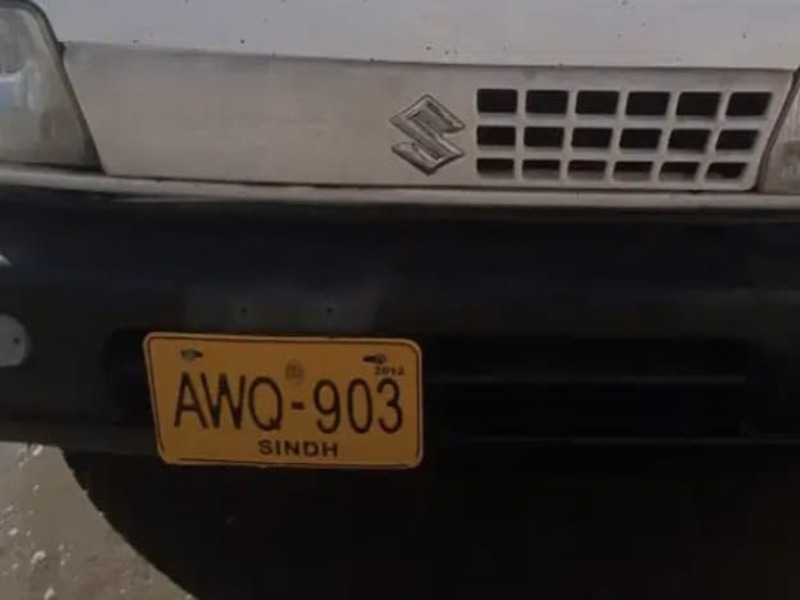License Plate: (139, 328, 429, 473)
